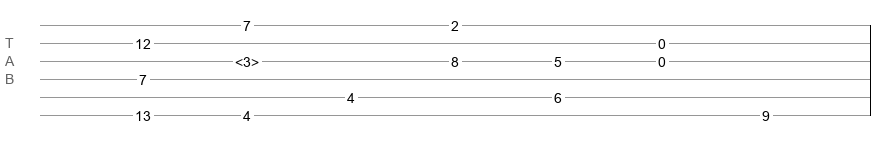0: (658, 36, 666, 46), (658, 54, 666, 64)
12: (135, 36, 151, 46)
13: (135, 108, 151, 118)
2: (451, 18, 459, 28)
4: (243, 108, 251, 118), (347, 90, 355, 100)
5: (554, 54, 562, 64)
6: (554, 90, 562, 100)
7: (139, 72, 147, 82), (243, 18, 251, 28)
8: (451, 54, 459, 64)
9: (762, 108, 770, 118)
harmonic: (235, 54, 259, 64)
